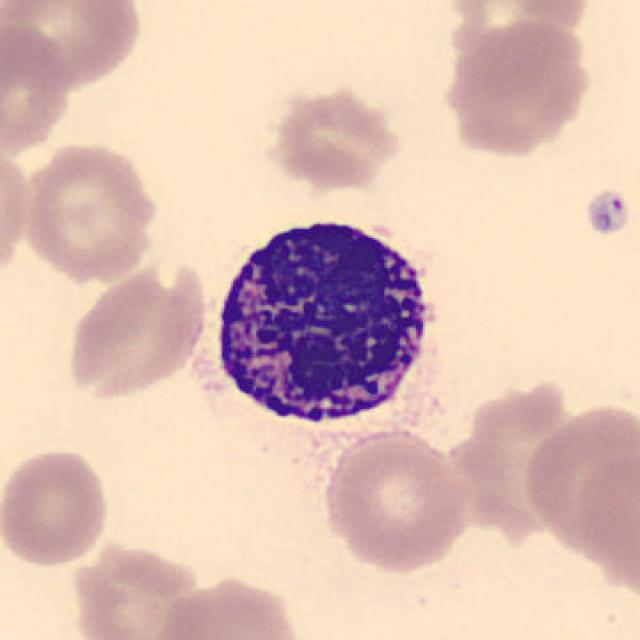Basophil: (188, 199, 454, 452)
Platelets: (581, 187, 631, 238)
RBC: (316, 425, 473, 575), (439, 11, 594, 162), (60, 256, 210, 404), (18, 137, 162, 286), (459, 380, 575, 549), (518, 395, 638, 555), (261, 81, 407, 192), (67, 537, 209, 640), (0, 444, 114, 572), (2, 0, 146, 95), (442, 0, 592, 79), (151, 573, 309, 640), (0, 19, 73, 162), (0, 143, 34, 289)
